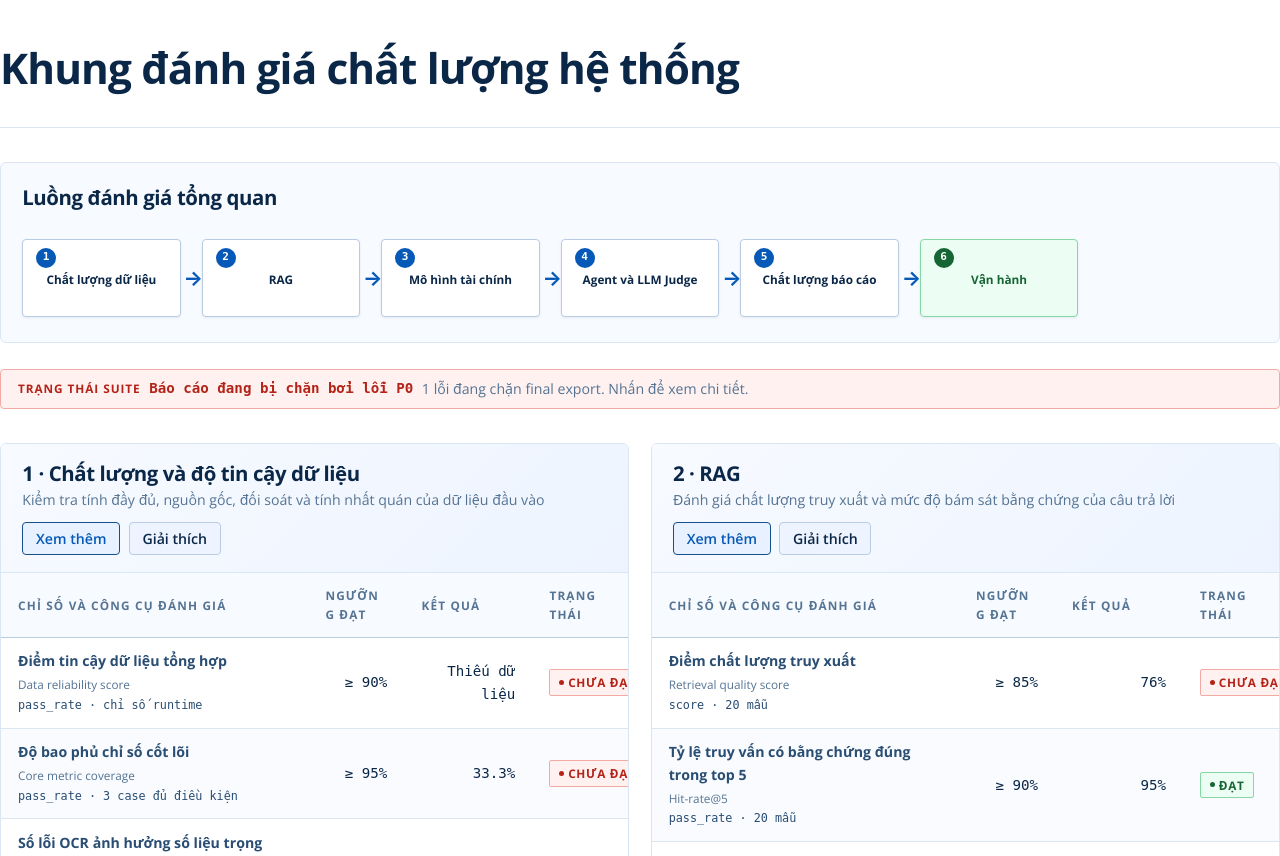
EvalDashboardPage › opens publication blocking details from the suite status banner
Click the button "P0" at point(640, 389), box [0,369,1279,409]
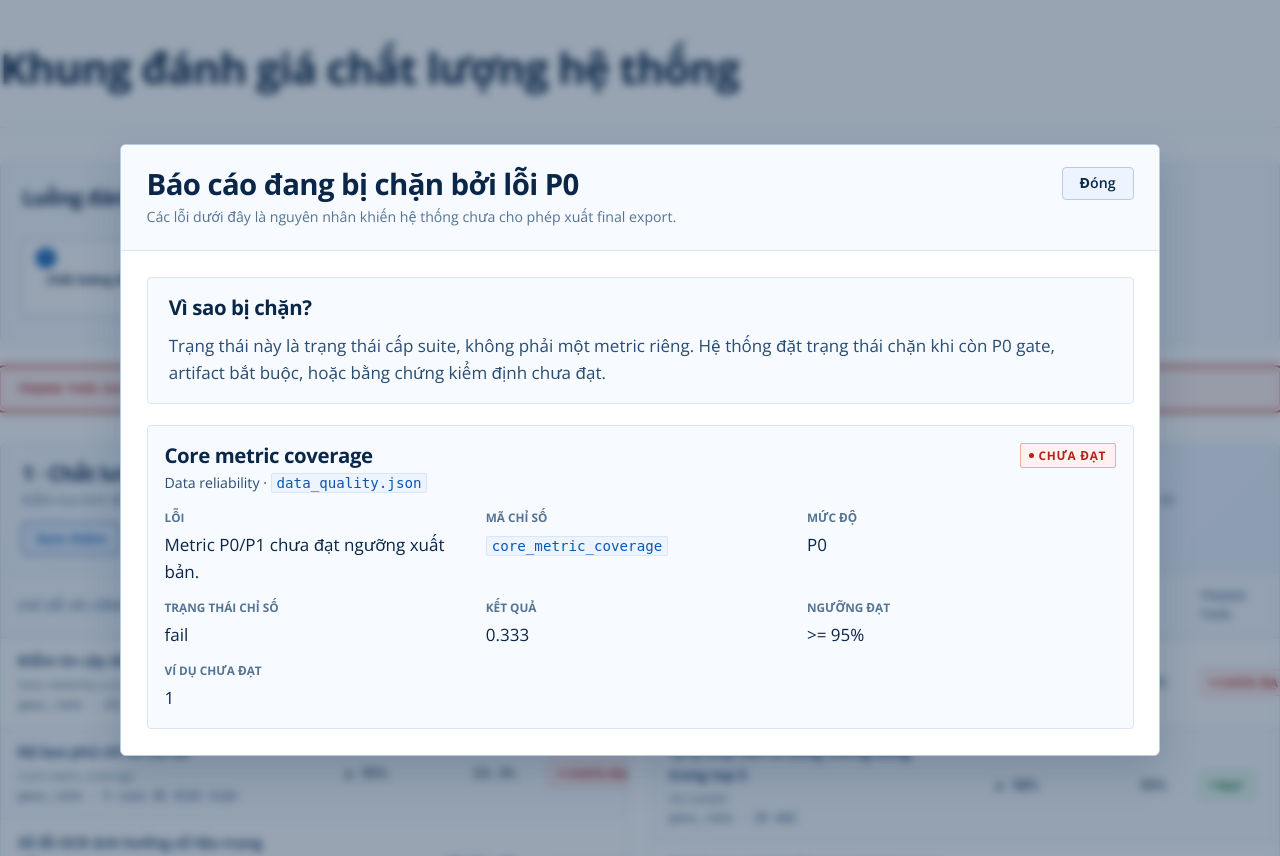
Check: the text "Core metric coverage" is shown, box [18,767,135,783]
Check: the dialog is shown, box [120,144,1160,756]
Check: the text "Metric P0/P1 chưa đạt ngưỡng xuất bản." is shown, box [164,531,473,585]
